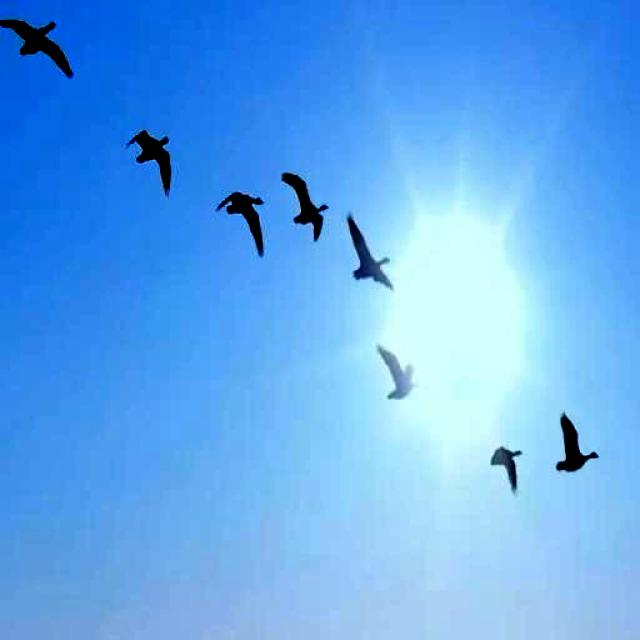airplane: (0, 8, 80, 89), (278, 164, 336, 249), (216, 179, 274, 259), (349, 202, 394, 304), (550, 412, 601, 484), (130, 129, 180, 200), (375, 336, 420, 409), (488, 442, 529, 500)
